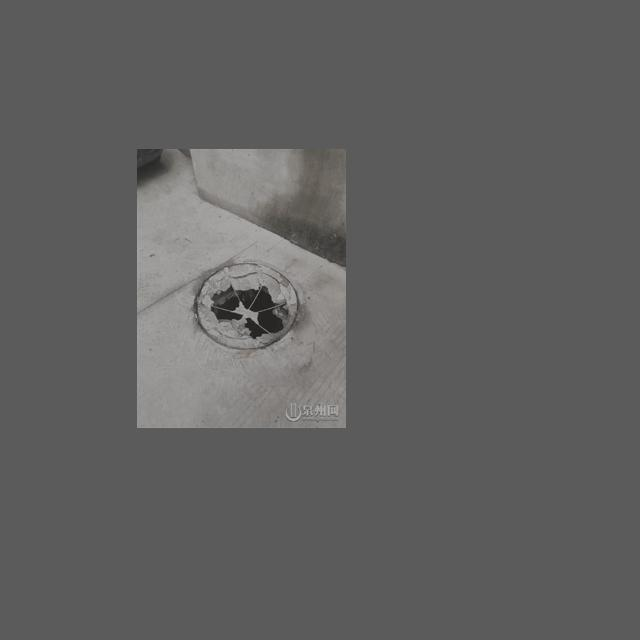broke: (184, 253, 315, 363)
